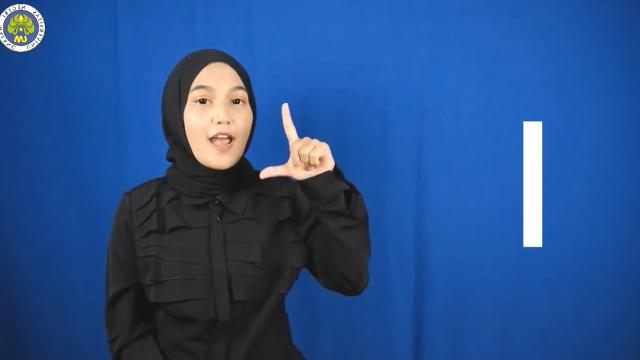L: (256, 101, 340, 187)
